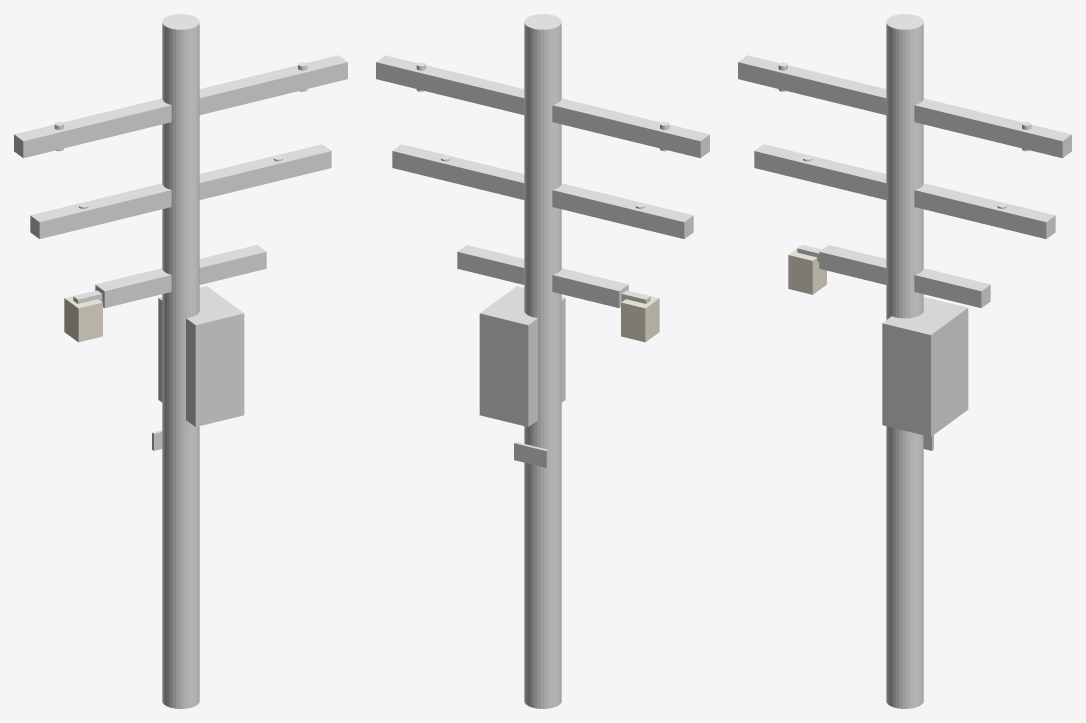
The model's file is utility_pole.glb.
3 renders of one model, left to right at view 1: azimuth 30°, elevation 25°; view 2: azimuth 150°, elevation 25°; view 3: azimuth 330°, elevation 25°, orthographic.
Parts seen in each view (by area): view 1: ElectricPole, CrossbeamTop, Transformer, CrossbeamMid, CrossbeamLow, StreetlightBulb; view 2: ElectricPole, CrossbeamTop, Transformer, CrossbeamMid, CrossbeamLow, StreetlightBulb, Nameplate; view 3: ElectricPole, Transformer, CrossbeamTop, CrossbeamMid, CrossbeamLow, StreetlightBulb.
Boxes of the visible parts, <box> form: ElectricPole: <box>162,14,199,708</box>; CrossbeamTop: <box>14,55,347,158</box>; Transformer: <box>158,286,244,426</box>; CrossbeamMid: <box>30,144,331,238</box>; CrossbeamLow: <box>95,245,266,308</box>; StreetlightBulb: <box>64,292,102,342</box>; ElectricPole: <box>524,14,561,708</box>; CrossbeamTop: <box>376,55,709,158</box>; Transformer: <box>479,286,565,426</box>; CrossbeamMid: <box>392,144,693,238</box>; CrossbeamLow: <box>457,245,628,308</box>; StreetlightBulb: <box>621,292,659,342</box>; Nameplate: <box>514,442,548,467</box>; ElectricPole: <box>886,14,923,708</box>; Transformer: <box>882,297,968,436</box>; CrossbeamTop: <box>738,55,1071,158</box>; CrossbeamMid: <box>754,144,1055,238</box>; CrossbeamLow: <box>819,245,990,308</box>; StreetlightBulb: <box>788,244,826,294</box>.
Bounding box in the file's own units: 4 × 8 × 0.8.
